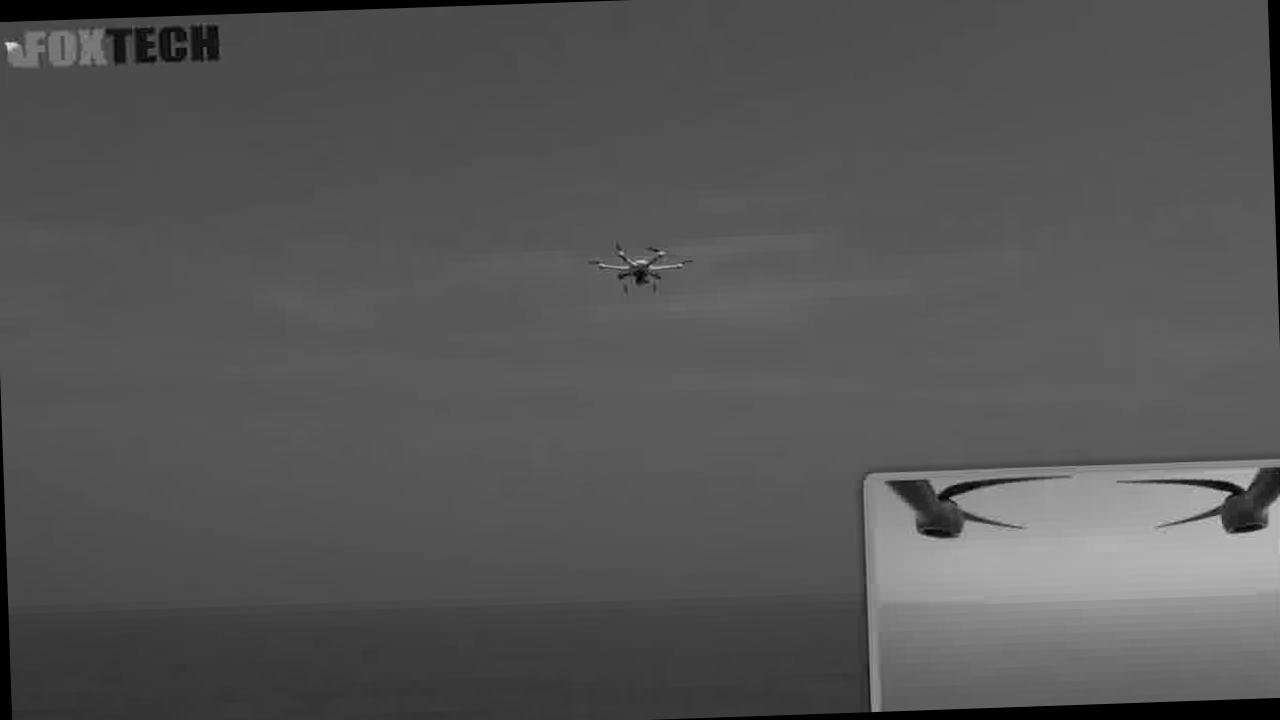drone: (582, 226, 700, 311)
